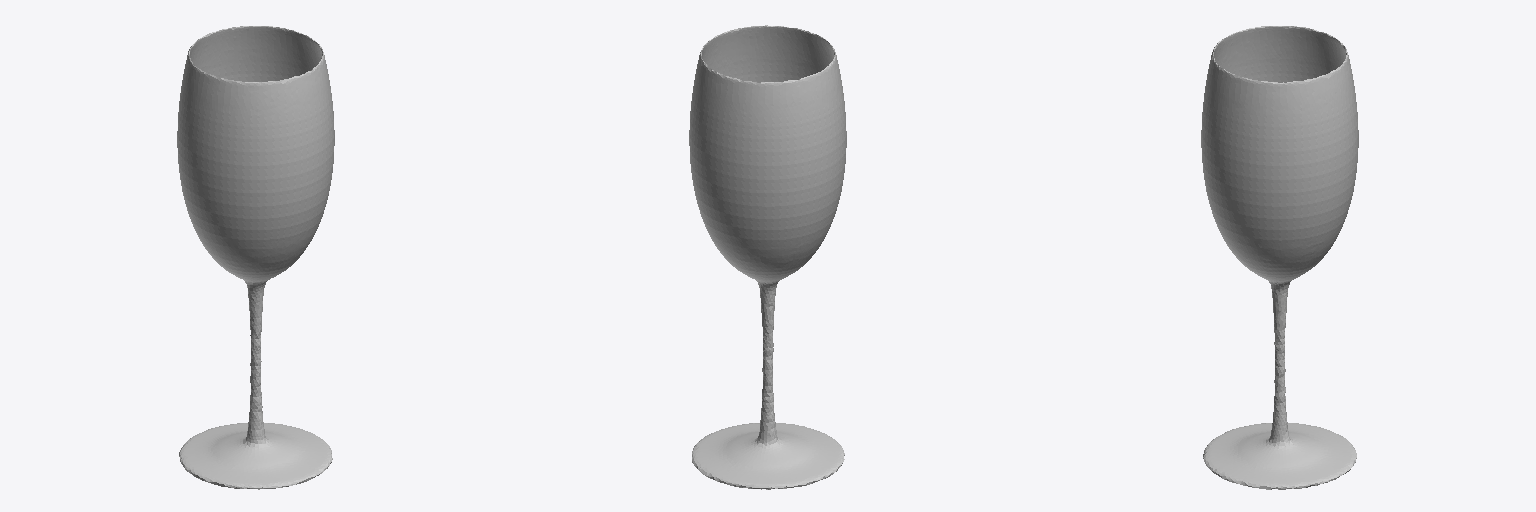
The model's file is glass-a04-remeshed.obj.
3 renders of one model, left to right at view 1: azimuth 30°, elevation 25°; view 2: azimuth 150°, elevation 25°; view 3: azimuth 270°, elevation 25°, orthographic.
Parts seen in each view (by area): view 1: default; view 2: default; view 3: default.
Part boxes in pixels (x1,y1,x2,y2): default: (177,26,334,489); default: (689,25,846,489); default: (1201,26,1358,489).
Bounding box in the file's own units: 0.344 × 0.9768 × 0.344.